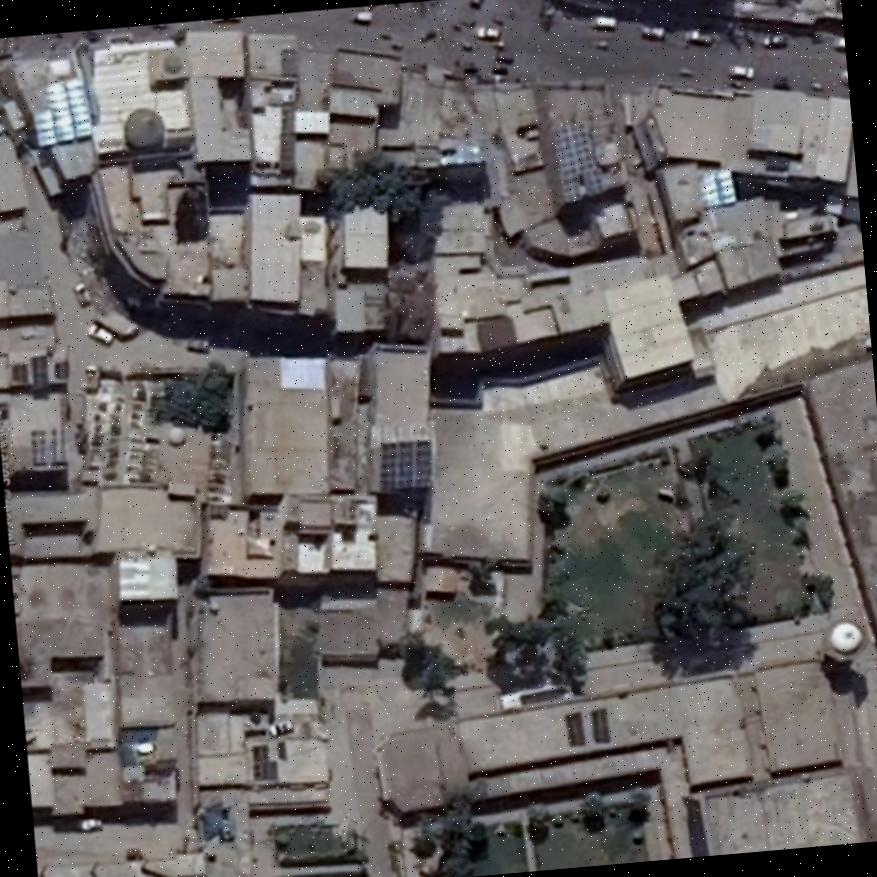Solarpanel: (378, 438, 430, 491), (553, 119, 594, 177), (564, 712, 584, 744), (590, 708, 608, 740), (582, 168, 604, 194), (558, 175, 580, 200), (30, 354, 47, 381), (12, 361, 25, 379)
